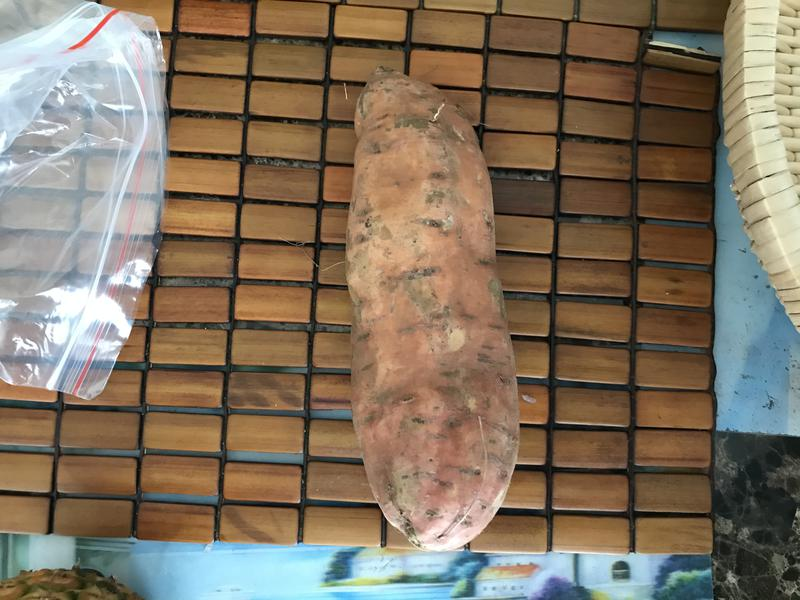sweet_potato: (335, 53, 528, 566)
